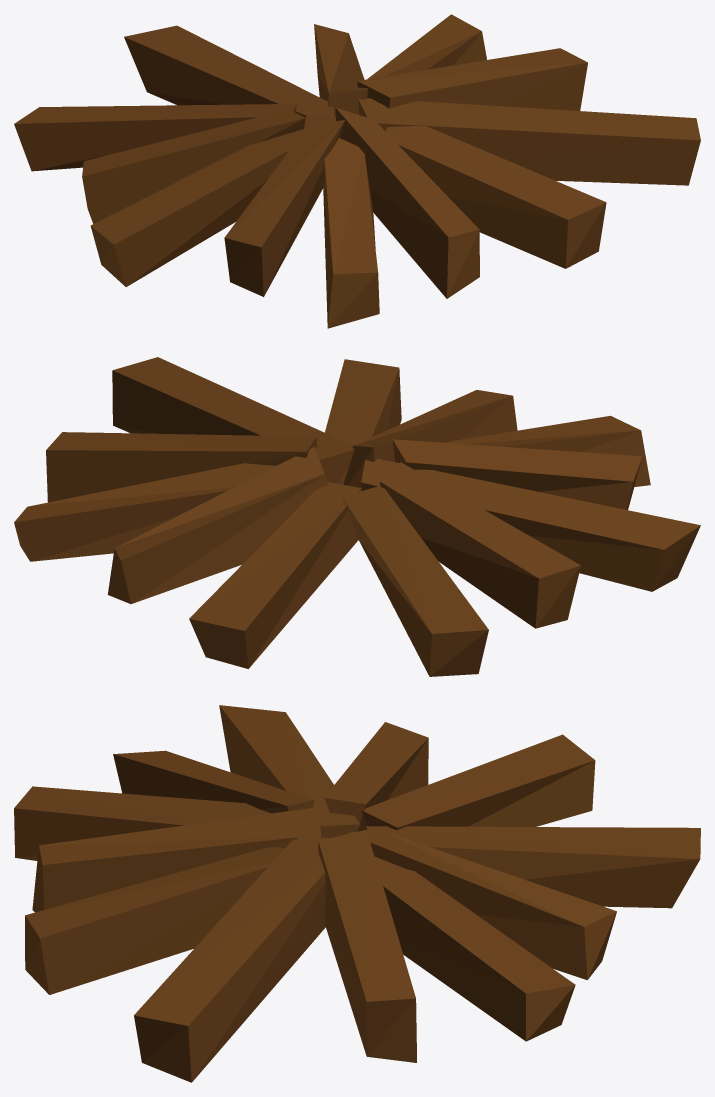
File: campfire-wood.fbx
The picture shows the model from 3 angles, top to bottom: view 1: azimuth 30°, elevation 25°; view 2: azimuth 150°, elevation 25°; view 3: azimuth 270°, elevation 25°; orthographic projection. The views are drawn at different scales.
Parts seen in each view (by area): view 1: 克隆_1; view 2: 克隆_1; view 3: 克隆_1.
Part boxes in pixels (x1,y1,x2,y2): 克隆_1: [14, 14, 700, 328]; 克隆_1: [14, 357, 700, 676]; 克隆_1: [14, 705, 700, 1082].
Size of the model in its own units: 124 by 20.23 by 113.
